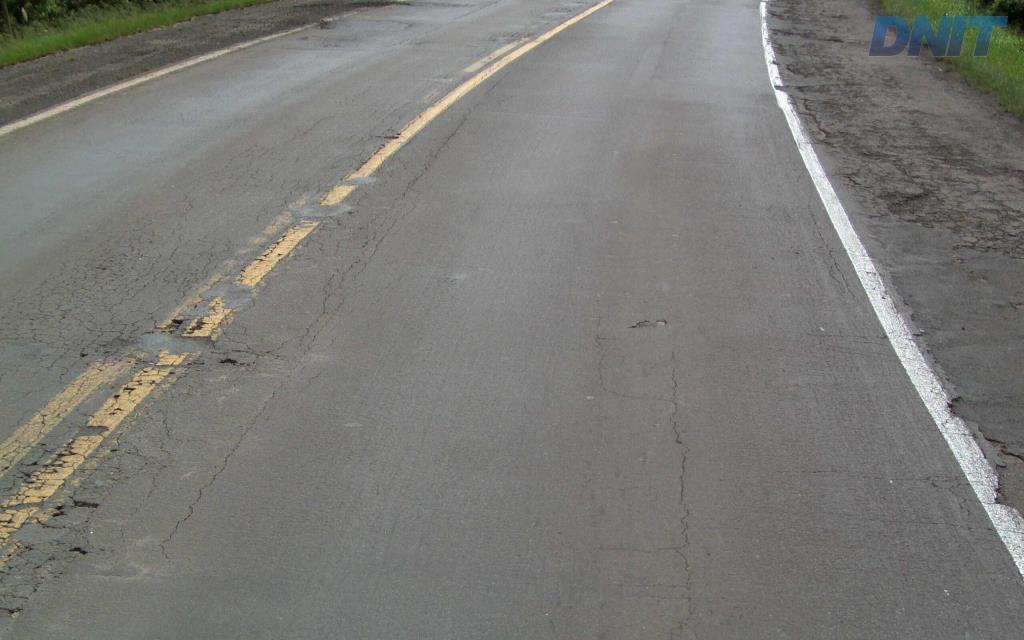crack: (654, 421, 694, 590)
pothole: (631, 312, 672, 330), (71, 497, 100, 508), (217, 354, 242, 365), (68, 545, 90, 555)
